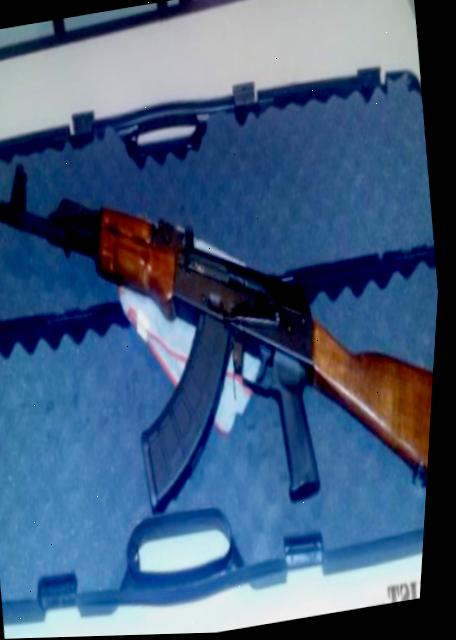rifle: (0, 94, 451, 587)
